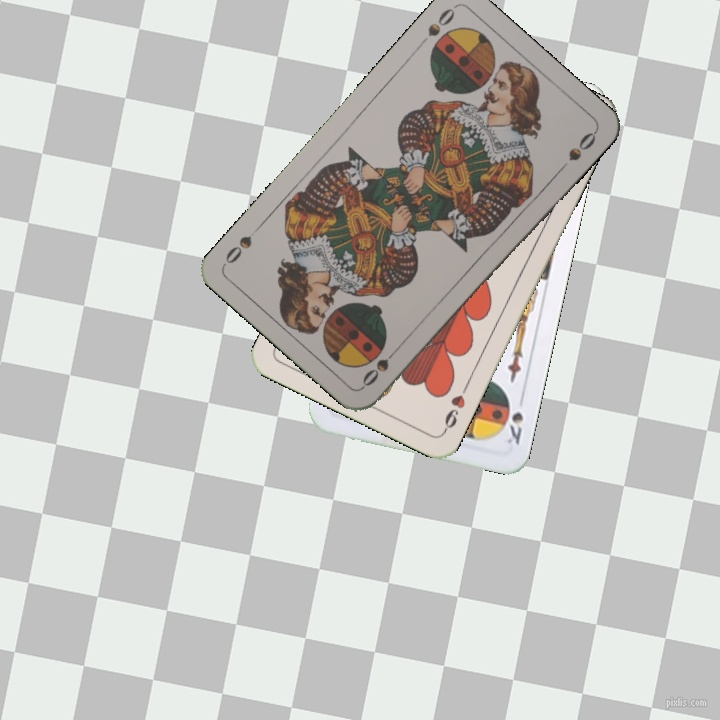H9: (439, 380, 471, 435)
SK: (502, 391, 527, 447)
SO: (358, 342, 403, 390), (423, 4, 458, 40)
